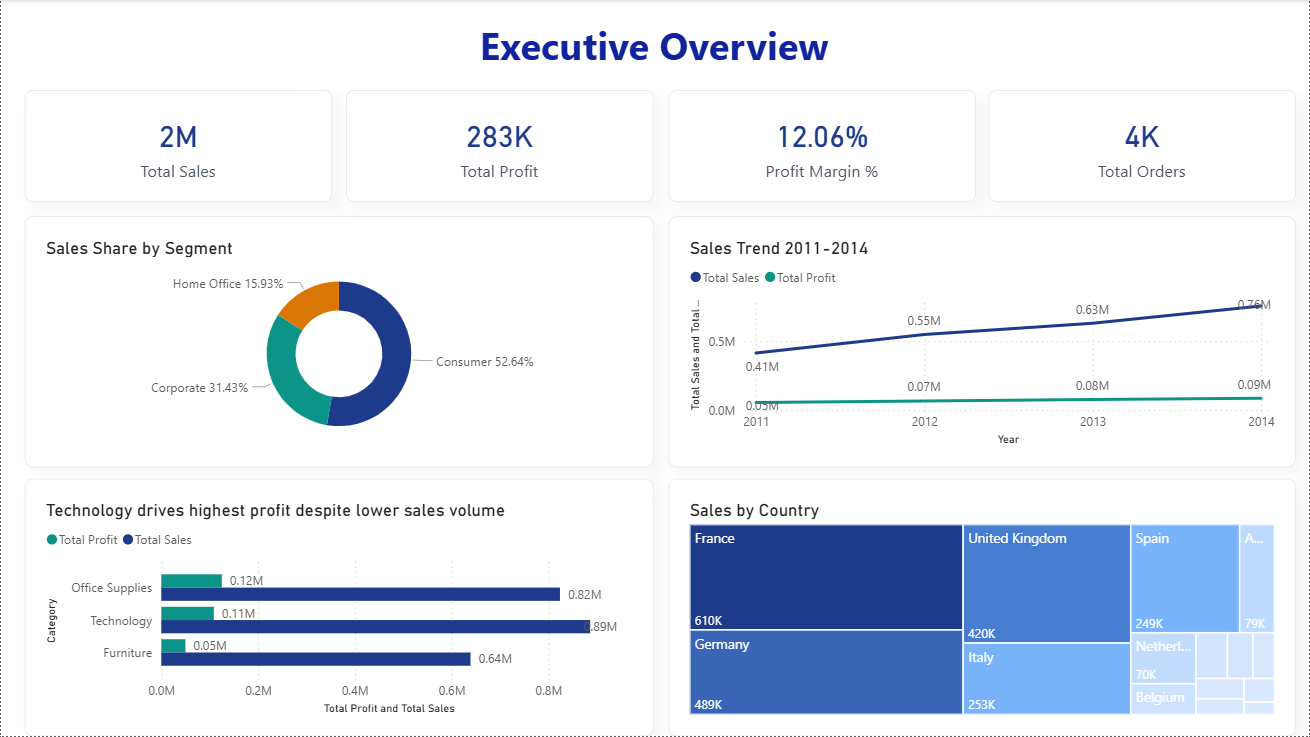

The page's visual inventory and layout, read from the dashboard file:
{"tool":"powerbi","page":{"name":"Executive Overview","canvas":[1280,720],"ordinal":0},"visuals":[{"type":"card","fields":{"Values":["Fact_Orders.Total Sales"]},"box":[23.3,87.8,300.5,109.8],"z":0},{"type":"donutChart","title":"Sales Share by Segment","fields":{"Category":["Fact_Orders.Segment"],"Y":["Fact_Orders.Total Sales"]},"box":[23.2,211.6,615.1,245.8],"z":1000},{"type":"clusteredBarChart","title":"Technology drives highest profit despite lower sales volume","fields":{"Y":["Fact_Orders.Total Profit","Fact_Orders.Total Sales"],"Category":["Fact_Orders.Category"]},"box":[23.2,468.3,615.1,251.9],"z":2000},{"type":"lineChart","title":"Sales Trend 2011-2014","fields":{"Y":["Fact_Orders.Total Sales","Fact_Orders.Total Profit"],"Category":["Fact_Orders.Year"]},"box":[653,211.6,613.9,245.8],"z":3000},{"type":"treemap","title":"Sales by Country","fields":{"Group":["Fact_Orders.Country"],"Values":["Fact_Orders.Total Sales"]},"box":[653,468.3,613.9,251.9],"z":4000},{"type":"textbox","box":[289.5,13.7,698.5,74.1],"z":5000},{"type":"card","fields":{"Values":["Fact_Orders.Total Profit"]},"box":[337.6,87.8,300.5,109.8],"z":6000},{"type":"card","fields":{"Values":["Fact_Orders.Profit Margin %"]},"box":[653.2,87.8,300.5,109.8],"z":7000},{"type":"card","fields":{"Values":["Fact_Orders.Total Orders"]},"box":[966,87.8,300.5,109.8],"z":8000}]}

Visuals, with their boxes in screenshot pixels (x1, y1, x2, y2), scaled from the page's 1280x720 canvas onto the 1310x737 screenshot:
card - Fact_Orders.Total Sales: {"x1": 24, "y1": 90, "x2": 331, "y2": 202}
"Sales Share by Segment" donutChart: {"x1": 24, "y1": 217, "x2": 653, "y2": 468}
"Technology drives highest profit despite lower sales volume" clusteredBarChart: {"x1": 24, "y1": 479, "x2": 653, "y2": 736}
"Sales Trend 2011-2014" lineChart: {"x1": 668, "y1": 217, "x2": 1297, "y2": 468}
"Sales by Country" treemap: {"x1": 668, "y1": 479, "x2": 1297, "y2": 736}
textbox: {"x1": 296, "y1": 14, "x2": 1011, "y2": 90}
card - Fact_Orders.Total Profit: {"x1": 346, "y1": 90, "x2": 653, "y2": 202}
card - Fact_Orders.Profit Margin %: {"x1": 669, "y1": 90, "x2": 976, "y2": 202}
card - Fact_Orders.Total Orders: {"x1": 989, "y1": 90, "x2": 1296, "y2": 202}
